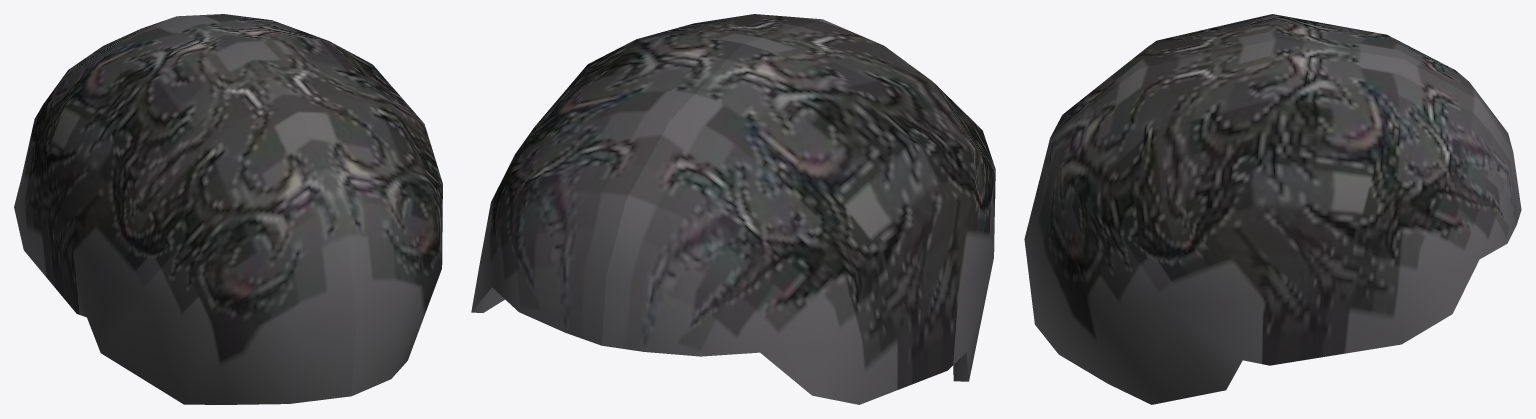
File: Martial arts male hair 55.glb
3 views of the same model, side by side, from view 1: azimuth 30°, elevation 25°; view 2: azimuth 150°, elevation 25°; view 3: azimuth 270°, elevation 25° (orthographic). The views are drawn at different scales.
Parts seen in each view (by area): view 1: 武侠男头发55_2; view 2: 武侠男头发55_2; view 3: 武侠男头发55_2.
Part boxes in pixels (x1,y1,x2,y2): 武侠男头发55_2: (14, 14, 442, 404); 武侠男头发55_2: (471, 14, 995, 404); 武侠男头发55_2: (1024, 14, 1521, 404).
Size of the model in its own units: 0.1582 by 0.1303 by 0.1906.
1 material, 1 textured.
